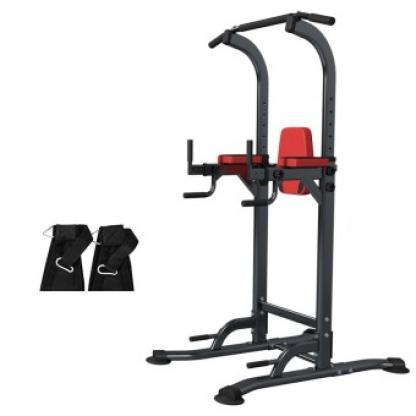chinning dipping: (148, 9, 410, 405)
